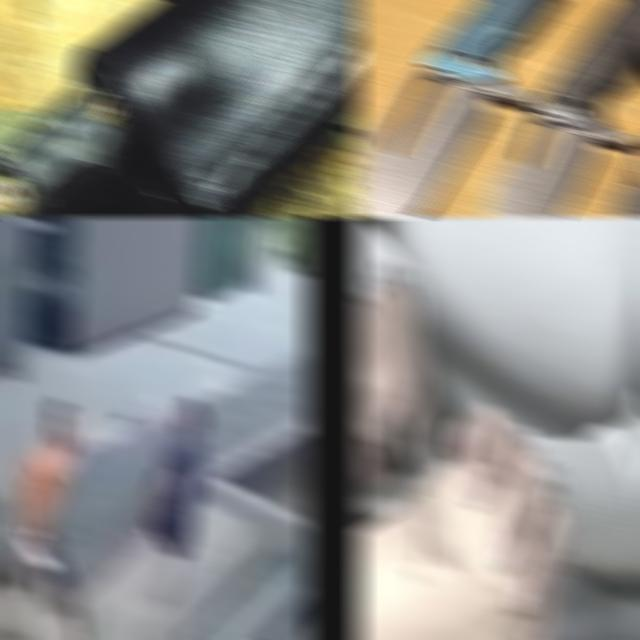Knife_Handle: (353, 263, 432, 544), (4, 524, 54, 570)
